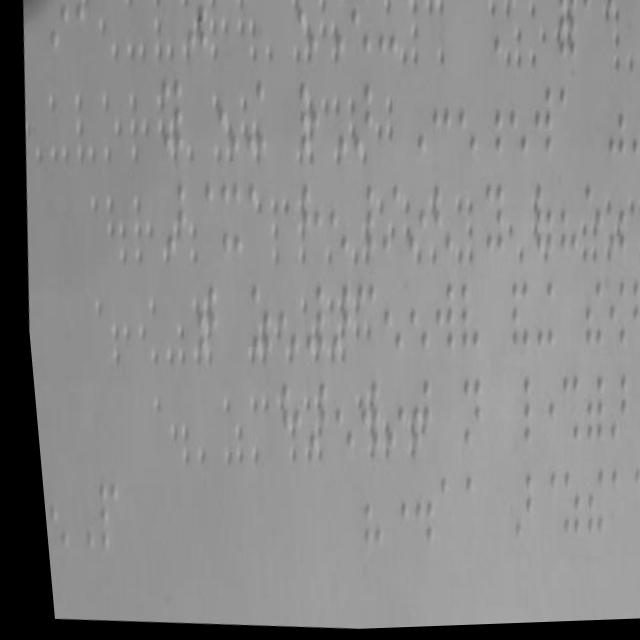braiile: (491, 370, 531, 462), (313, 70, 350, 162), (208, 177, 245, 268), (521, 77, 558, 167), (316, 369, 353, 458), (394, 76, 430, 167), (469, 74, 506, 161), (394, 372, 430, 461), (343, 175, 379, 264), (341, 70, 377, 159), (293, 373, 329, 461), (315, 176, 350, 265), (183, 277, 219, 363), (444, 74, 480, 160), (498, 76, 532, 165), (209, 77, 245, 161), (153, 175, 188, 261), (284, 80, 320, 163), (234, 81, 270, 163), (344, 376, 378, 462), (420, 277, 455, 358), (395, 276, 429, 358), (370, 276, 403, 360), (522, 277, 556, 358), (595, 84, 629, 165), (395, 177, 427, 261), (290, 281, 322, 363), (317, 276, 349, 356), (570, 278, 604, 353), (497, 273, 528, 355), (345, 474, 377, 551), (547, 373, 579, 450), (595, 185, 627, 261), (266, 283, 298, 358), (549, 179, 579, 258), (595, 372, 625, 450), (570, 468, 601, 543), (398, 476, 429, 549), (597, 276, 625, 356), (497, 469, 527, 541), (343, 0, 375, 65), (289, 0, 321, 65), (370, 0, 402, 60), (40, 0, 75, 53), (619, 84, 640, 164)
